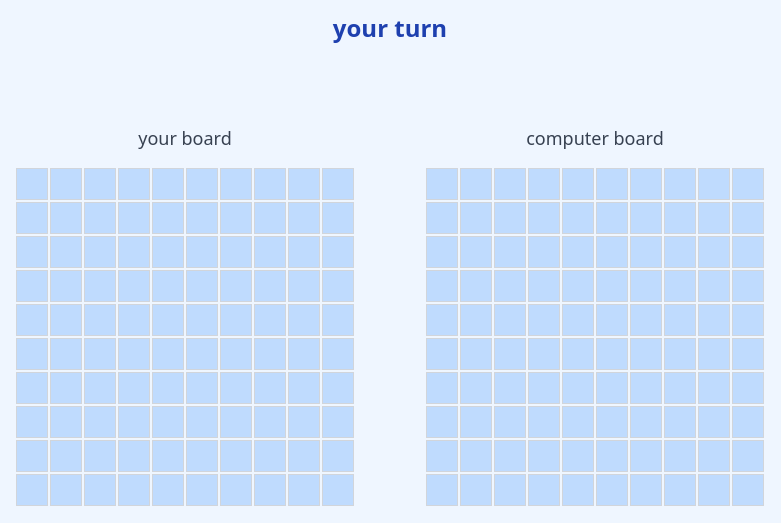
Test: GamePlay › makes human move on click and sets result message 'hit' if sucsessful
Click the 2nd element with test id "cell-0-0": (442, 184) [426,168,458,200]
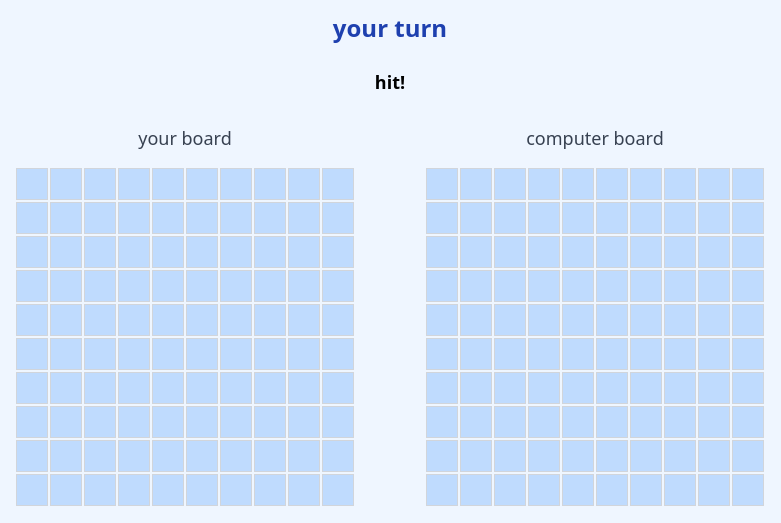
Check: the text with test id "result-msg" reads "hit!", box [375,70,405,94]
